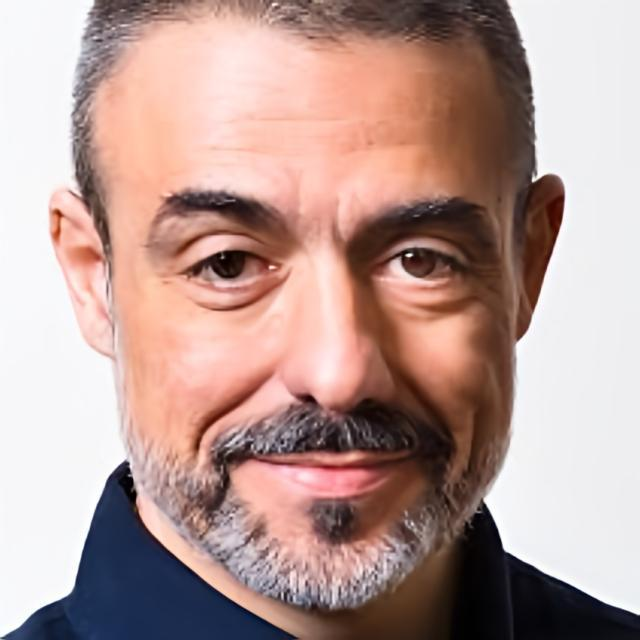happy: (116, 34, 522, 618)
